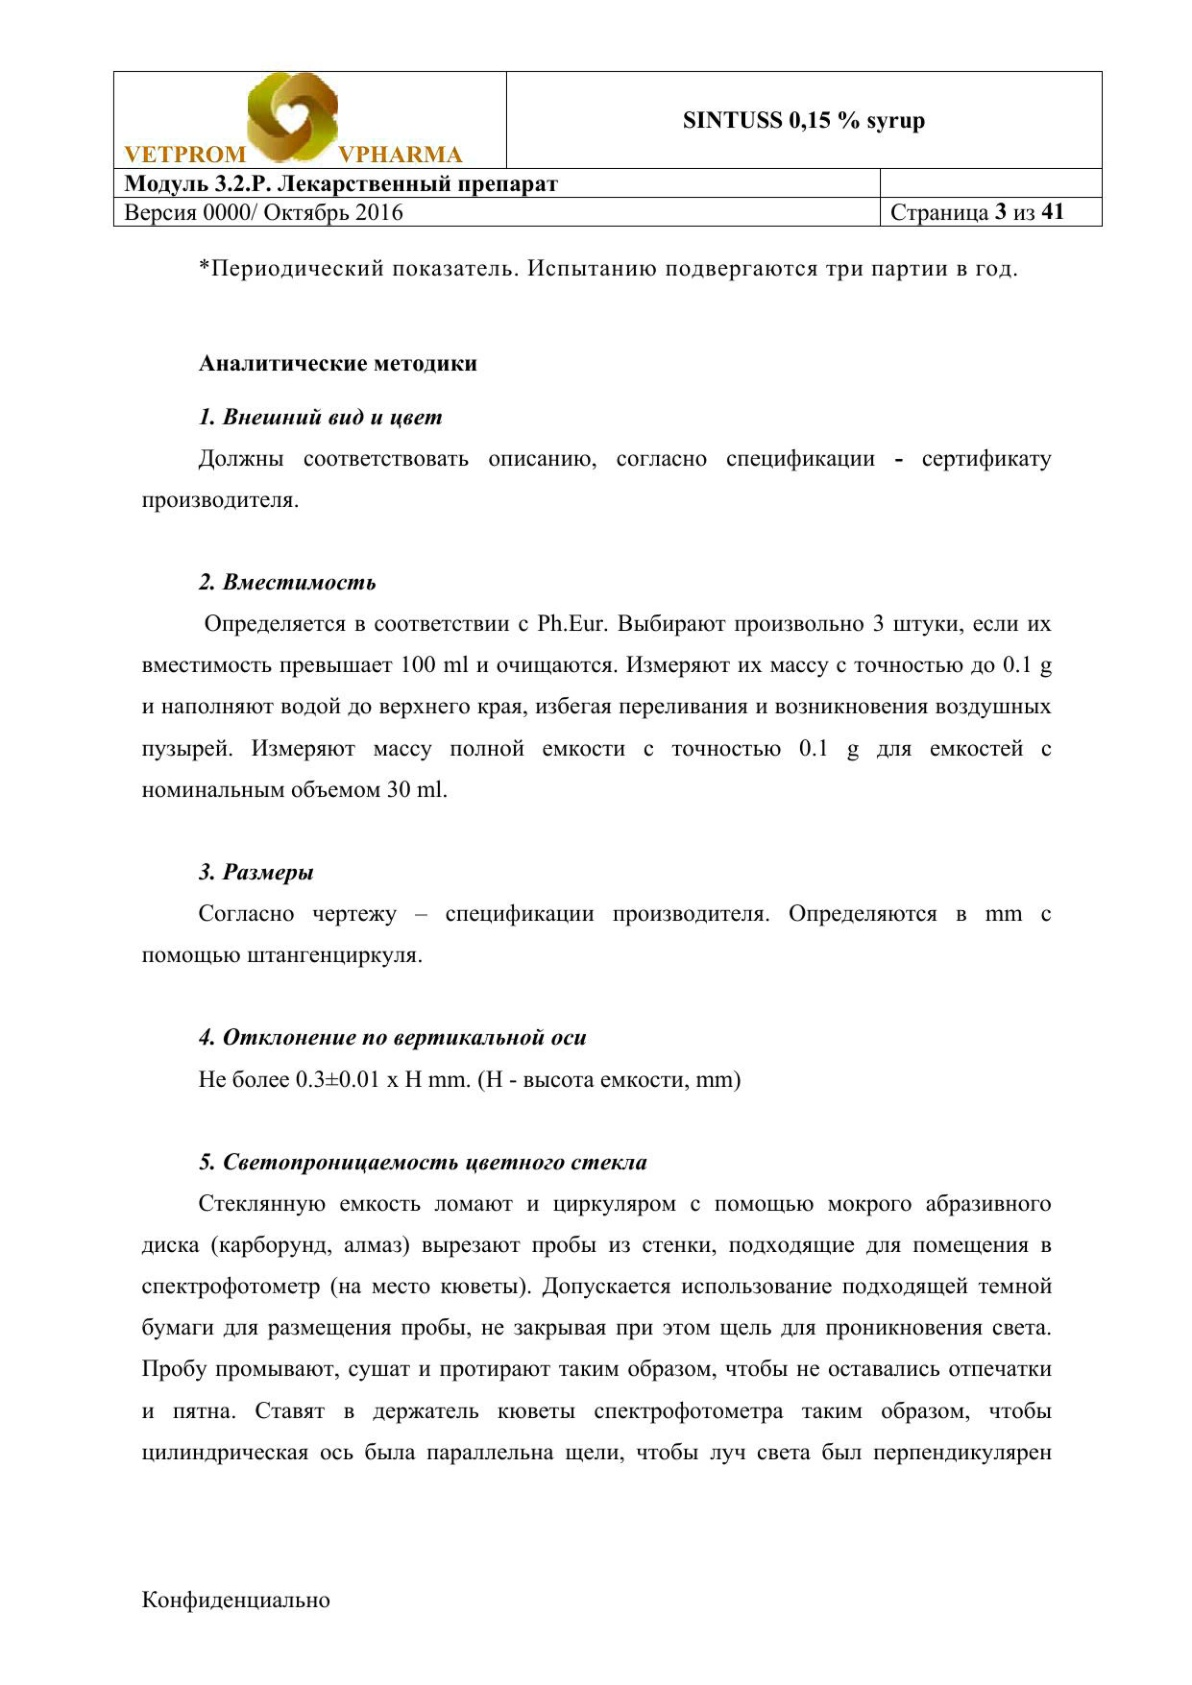merged_cells: (114, 70, 1103, 228)
